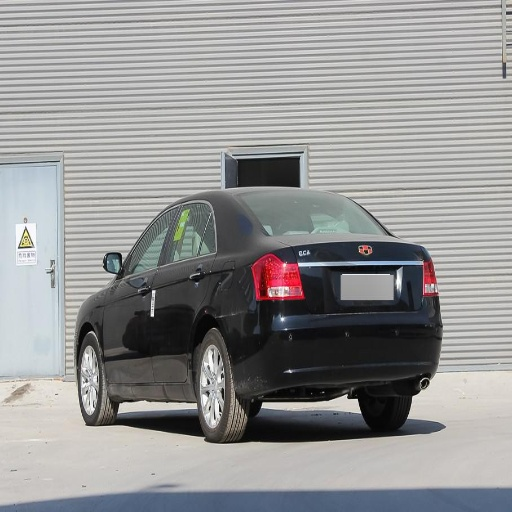back_bumper: (241, 303, 438, 395)
back_glass: (266, 194, 379, 235)
back_left_door: (155, 199, 213, 398)
tailgate: (288, 232, 418, 319)
